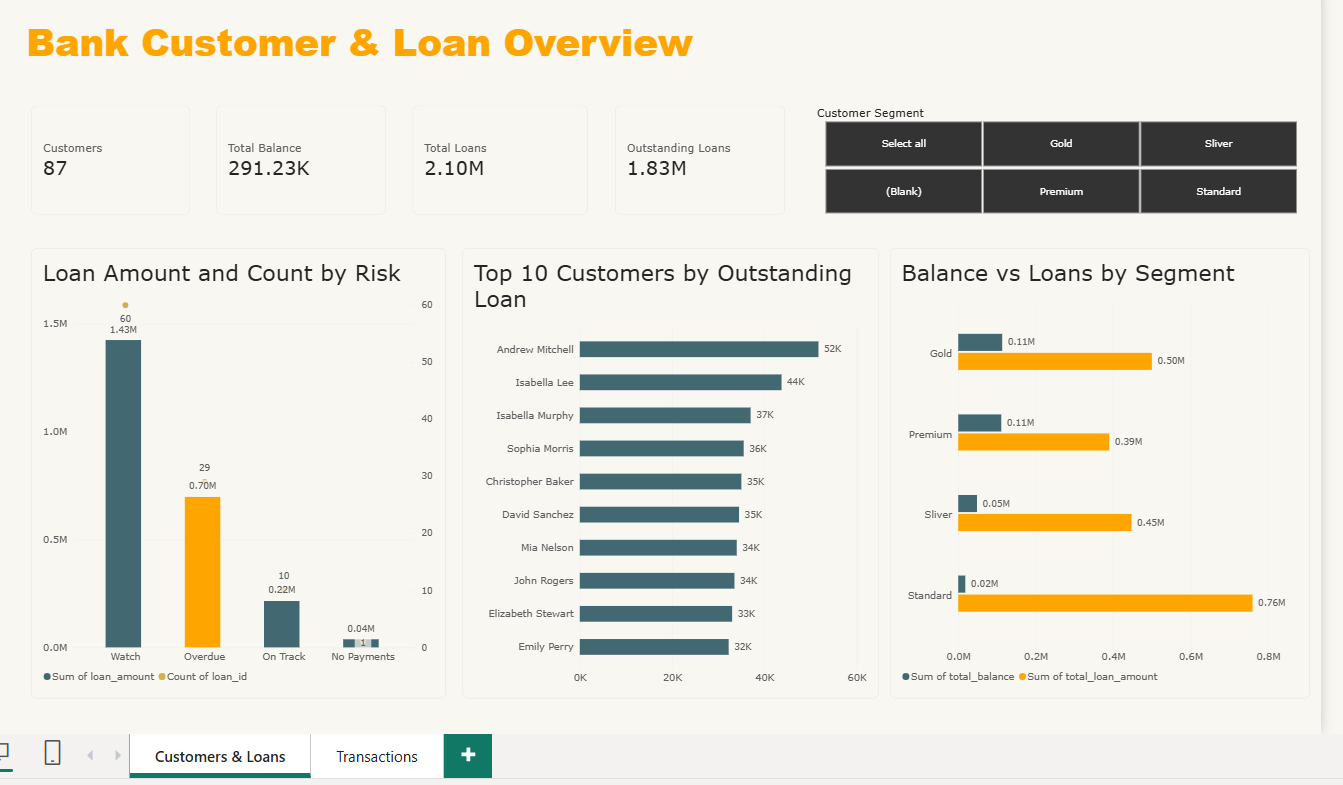

The dashboard page shown, as its layout file describes it:
{"tool":"powerbi","page":{"name":"Customers & Loans","canvas":[1920,1080],"ordinal":0},"visuals":[{"type":"clusteredBarChart","title":"Top 10 Customers by Outstanding Loan","fields":{"Category":["mart_customer_360.full_name"],"Y":["Sum(mart_customer_360.outstanding_loan)"]},"box":[676,376,602,652],"z":0},{"type":"lineClusteredColumnComboChart","title":"Loan Amount and Count by Risk","fields":{"Category":["mart_loan_summary.risk_flag"],"Y":["Sum(mart_loan_summary.loan_amount)"],"Y2":["CountNonNull(mart_loan_summary.loan_id)"]},"box":[52,376,600,652],"z":1000},{"type":"cardVisual","fields":{"Data":["Count(mart_customer_360.customer_id)"]},"box":[52.4,170,230,158],"z":2000},{"type":"cardVisual","fields":{"Data":["Sum(mart_customer_360.outstanding_loan)"]},"box":[897.6,170,246,158],"z":3000},{"type":"cardVisual","fields":{"Data":["Sum(mart_customer_360.total_balance)"]},"box":[320.8,170,246,158],"z":4000},{"type":"cardVisual","fields":{"Data":["Sum(mart_customer_360.total_loan_amount)"]},"box":[605.2,170,254,158],"z":5000},{"type":"slicer","title":"Customer Segment","fields":{"Values":["mart_customer_360.customer_segment"]},"box":[1182,170,722,158],"z":6000},{"type":"textbox","box":[46,40,1444,94],"z":7000},{"type":"clusteredBarChart","title":"Balance vs Loans by Segment","fields":{"Category":["mart_customer_360.customer_segment"],"Y":["Sum(mart_customer_360.total_balance)","Sum(mart_customer_360.total_loan_amount)"]},"box":[1296,376,608,652],"z":8000}]}

Visuals, with their boxes on the page's 1920x1080 design canvas (x1, y1, x2, y2). These are canvas units, not pixel positions in the 1343x785 screenshot, which may show the page scaled, cropped or inside an application window:
"Top 10 Customers by Outstanding Loan" clusteredBarChart: (676, 376, 1278, 1028)
"Loan Amount and Count by Risk" lineClusteredColumnComboChart: (52, 376, 652, 1028)
cardVisual - Count(mart_customer_360.customer_id): (52, 170, 282, 328)
cardVisual - Sum(mart_customer_360.outstanding_loan): (898, 170, 1144, 328)
cardVisual - Sum(mart_customer_360.total_balance): (321, 170, 567, 328)
cardVisual - Sum(mart_customer_360.total_loan_amount): (605, 170, 859, 328)
"Customer Segment" slicer: (1182, 170, 1904, 328)
textbox: (46, 40, 1490, 134)
"Balance vs Loans by Segment" clusteredBarChart: (1296, 376, 1904, 1028)
